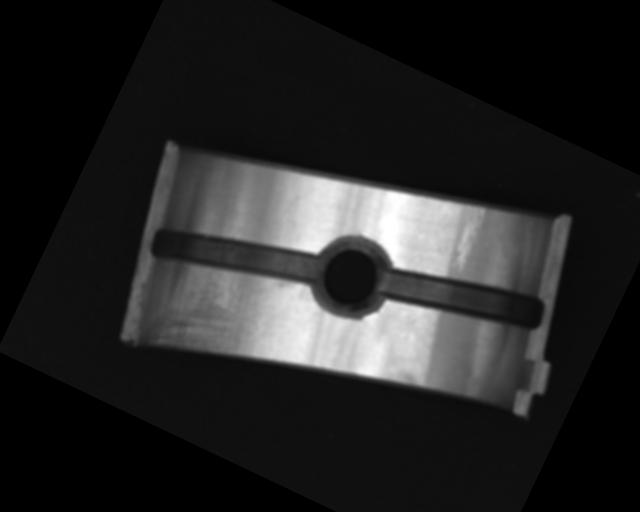gap: (147, 188, 327, 321), (373, 232, 551, 359)
hole: (296, 220, 406, 333)
nick: (446, 200, 491, 274)
scratch: (140, 233, 296, 390)
